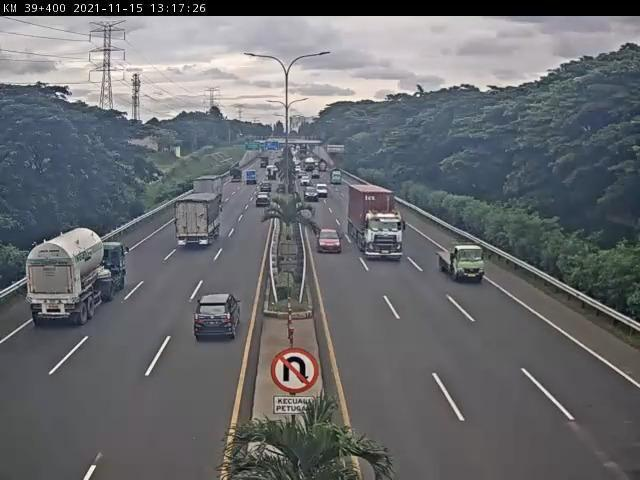car: (194, 294, 241, 341), (317, 230, 342, 254), (255, 193, 273, 210)
truck: (28, 227, 128, 324), (348, 185, 407, 262), (175, 194, 223, 254), (437, 245, 487, 282), (195, 176, 227, 207)
